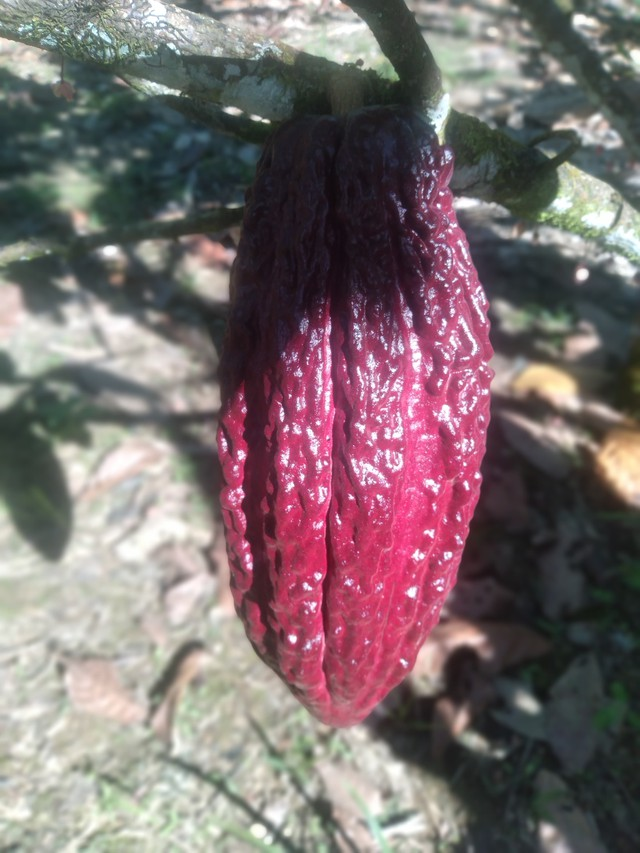Health: (185, 91, 509, 737)
